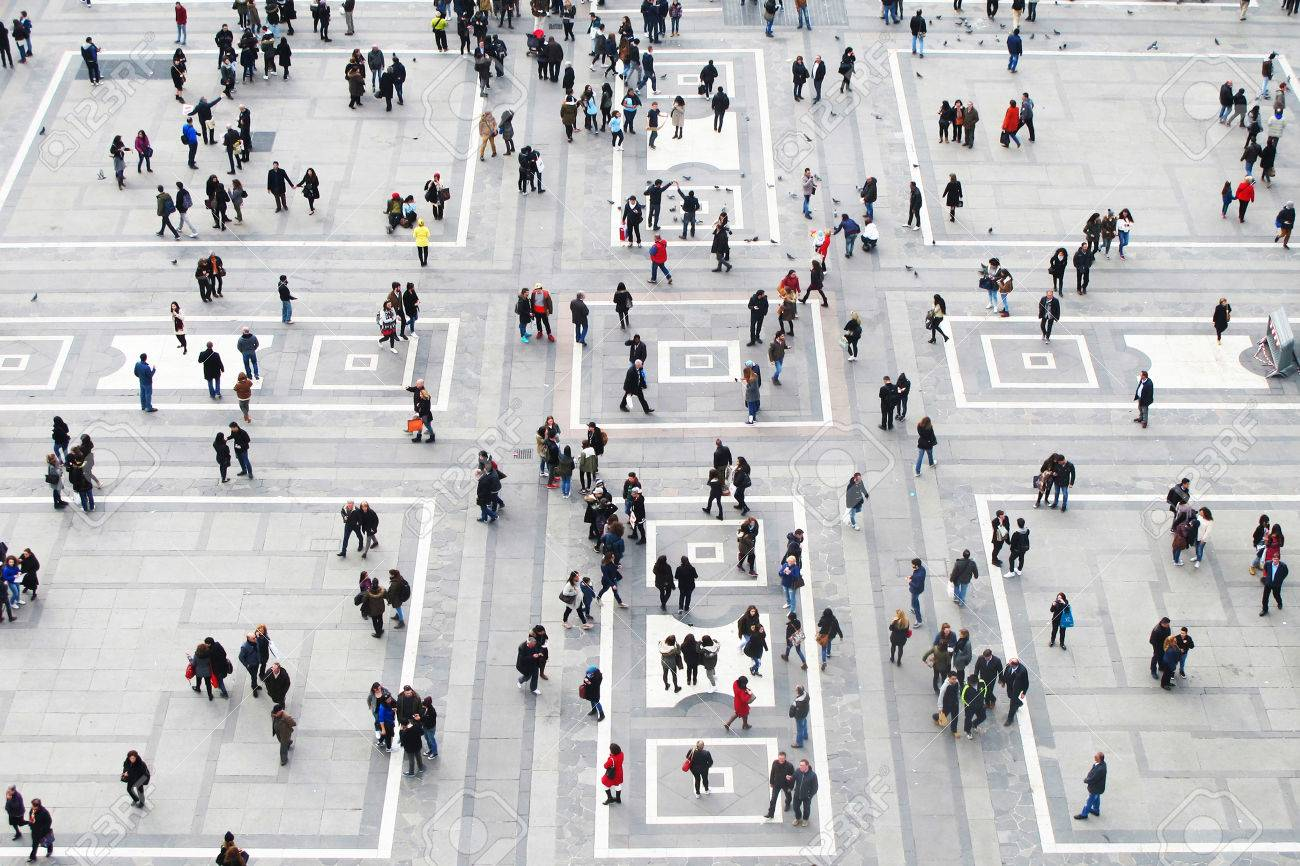person: (1072, 748, 1112, 824), (925, 671, 963, 739), (774, 609, 813, 675), (25, 797, 62, 866), (790, 759, 824, 831), (1004, 656, 1037, 730), (766, 750, 800, 819), (510, 631, 543, 701), (960, 671, 990, 747), (618, 359, 657, 416), (842, 469, 874, 538), (903, 553, 933, 625), (595, 551, 631, 610), (119, 747, 153, 809), (948, 548, 980, 613), (725, 675, 759, 735), (1130, 365, 1162, 428), (1027, 445, 1056, 513), (1257, 554, 1289, 615), (815, 603, 845, 668), (1190, 507, 1219, 574), (268, 709, 300, 769), (734, 515, 762, 583), (185, 94, 223, 144), (398, 721, 430, 780), (598, 744, 627, 809), (653, 633, 683, 695), (1048, 588, 1078, 650), (557, 566, 587, 628), (787, 686, 816, 750), (1207, 295, 1239, 351), (778, 554, 804, 622), (797, 259, 832, 309), (578, 665, 609, 721), (974, 648, 1001, 712), (913, 414, 940, 478), (184, 639, 213, 698), (206, 630, 230, 701), (674, 553, 701, 616), (584, 477, 613, 535), (684, 741, 713, 798), (707, 435, 736, 492), (198, 340, 226, 399), (360, 580, 387, 641), (643, 177, 674, 230), (1246, 510, 1271, 575), (71, 451, 96, 516), (675, 179, 701, 241), (78, 432, 106, 489), (267, 160, 297, 213), (531, 282, 557, 343), (593, 522, 626, 570), (700, 466, 727, 524), (262, 659, 295, 706), (731, 453, 756, 515), (1057, 441, 1077, 518), (153, 183, 180, 240), (922, 638, 954, 686), (1148, 616, 1174, 675), (134, 353, 160, 412), (986, 506, 1009, 572), (333, 501, 359, 559), (698, 636, 724, 694), (534, 618, 556, 686), (389, 566, 412, 631), (586, 421, 609, 486), (218, 825, 254, 866), (887, 606, 912, 665), (1009, 515, 1034, 574), (229, 420, 254, 479), (4, 780, 27, 844), (591, 499, 619, 551), (767, 330, 793, 386), (740, 625, 769, 675), (474, 468, 499, 525), (746, 289, 770, 348), (375, 298, 399, 357), (423, 171, 451, 221), (175, 181, 200, 237), (237, 326, 263, 379), (647, 233, 674, 284), (568, 289, 591, 348), (80, 35, 106, 87), (1163, 474, 1193, 519), (635, 45, 662, 95), (800, 166, 824, 222), (411, 390, 435, 446), (240, 631, 262, 692), (1271, 516, 1293, 577), (680, 625, 701, 688), (360, 498, 384, 553), (1169, 506, 1189, 572), (385, 281, 407, 340), (621, 195, 645, 248), (1038, 290, 1061, 345), (422, 700, 443, 760), (654, 556, 675, 616), (577, 438, 598, 498), (877, 375, 899, 432), (979, 256, 1001, 313), (926, 295, 951, 344), (833, 213, 860, 258), (47, 455, 69, 510), (296, 167, 321, 215), (931, 619, 957, 665), (622, 470, 644, 524), (840, 311, 863, 362), (378, 695, 398, 753), (646, 101, 669, 151), (613, 281, 635, 333), (629, 486, 648, 546), (51, 412, 70, 472), (184, 117, 205, 171), (362, 683, 386, 730), (623, 38, 646, 87), (901, 181, 923, 232), (278, 274, 300, 325), (557, 444, 577, 500), (1073, 241, 1093, 297), (213, 431, 234, 484), (710, 223, 733, 271), (777, 286, 799, 336), (780, 269, 802, 319), (544, 430, 562, 490), (169, 300, 189, 354), (942, 172, 963, 223), (478, 110, 499, 161), (1235, 174, 1256, 225), (404, 282, 423, 338), (515, 286, 533, 345), (736, 603, 763, 642), (1000, 99, 1021, 149), (233, 373, 254, 423), (742, 367, 760, 425), (484, 464, 506, 511), (780, 525, 807, 563), (22, 544, 40, 601), (1048, 247, 1068, 298), (224, 124, 244, 175), (404, 375, 430, 414), (135, 128, 157, 174), (622, 87, 643, 135), (1277, 198, 1296, 251), (382, 191, 404, 236), (588, 24, 609, 70), (711, 85, 731, 133), (1162, 636, 1180, 689), (585, 486, 604, 536), (910, 9, 929, 59), (1261, 49, 1280, 99), (228, 178, 250, 221), (837, 46, 857, 93), (1117, 208, 1135, 260), (5, 555, 22, 610), (791, 54, 810, 103), (396, 685, 424, 718), (859, 175, 879, 221), (1243, 104, 1263, 150), (389, 55, 407, 106), (413, 219, 431, 270), (527, 146, 546, 194), (170, 57, 189, 105), (1019, 93, 1037, 143), (814, 227, 833, 274), (699, 59, 720, 101), (208, 249, 226, 298), (956, 625, 978, 665), (215, 24, 235, 68), (894, 371, 911, 422), (499, 107, 517, 155), (1241, 136, 1262, 177), (347, 65, 366, 110), (11, 19, 30, 64), (810, 55, 827, 105), (211, 183, 229, 230), (670, 95, 689, 139), (1226, 89, 1248, 127), (535, 425, 551, 477), (1101, 208, 1117, 260), (563, 88, 582, 131), (456, 12, 475, 55), (547, 35, 564, 83), (194, 258, 212, 303), (219, 56, 237, 100), (1261, 139, 1276, 191), (431, 10, 449, 53), (111, 148, 129, 191), (998, 269, 1014, 317), (560, 96, 576, 144), (381, 67, 397, 115), (369, 45, 385, 93), (1006, 28, 1023, 73), (603, 33, 620, 78), (1083, 212, 1101, 254), (608, 110, 626, 152), (491, 34, 508, 78), (1267, 107, 1286, 146), (965, 101, 980, 149), (260, 35, 276, 80), (477, 53, 492, 100), (600, 83, 614, 132), (516, 146, 530, 195), (1, 21, 15, 70), (626, 336, 648, 367), (239, 105, 254, 150), (18, 9, 32, 57), (257, 627, 280, 656), (713, 210, 735, 240), (174, 2, 189, 46), (1219, 78, 1233, 125), (561, 1, 577, 42), (860, 218, 879, 252), (937, 99, 951, 143), (472, 11, 491, 43), (586, 92, 600, 135), (240, 44, 255, 84), (278, 35, 291, 81), (401, 193, 418, 228), (205, 174, 222, 209), (543, 414, 562, 445), (619, 32, 631, 81), (952, 98, 965, 143), (1220, 180, 1235, 219), (1181, 627, 1193, 675), (583, 578, 596, 622), (744, 359, 762, 390), (477, 448, 500, 472), (669, 1, 683, 39), (562, 62, 577, 97), (536, 37, 548, 80), (618, 14, 635, 44), (109, 131, 128, 156), (582, 11, 604, 32), (351, 47, 367, 75), (345, 56, 366, 77), (1275, 78, 1286, 115), (172, 48, 189, 71), (579, 83, 593, 110), (353, 569, 366, 598), (473, 39, 489, 60)
